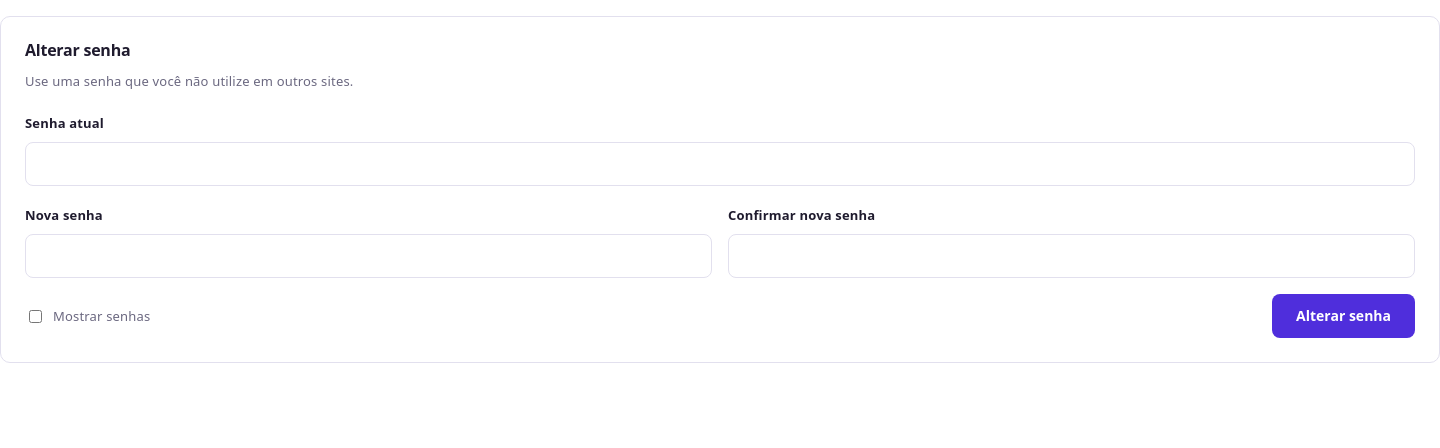
Test: FormularioSenha › envia, confirma e limpa os campos
Type "atual123" into the password field labelled "Senha atual" at (720, 164), box 25,142 -> 1415,186
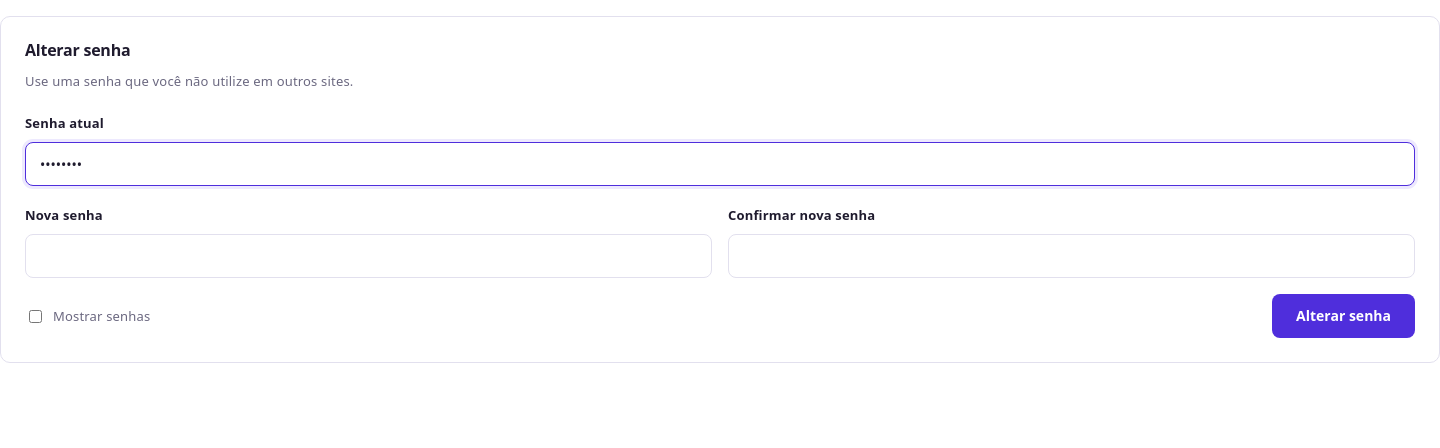
Type "nova1234" into the password field labelled "Nova senha" at (368, 256), box 25,234 -> 712,278
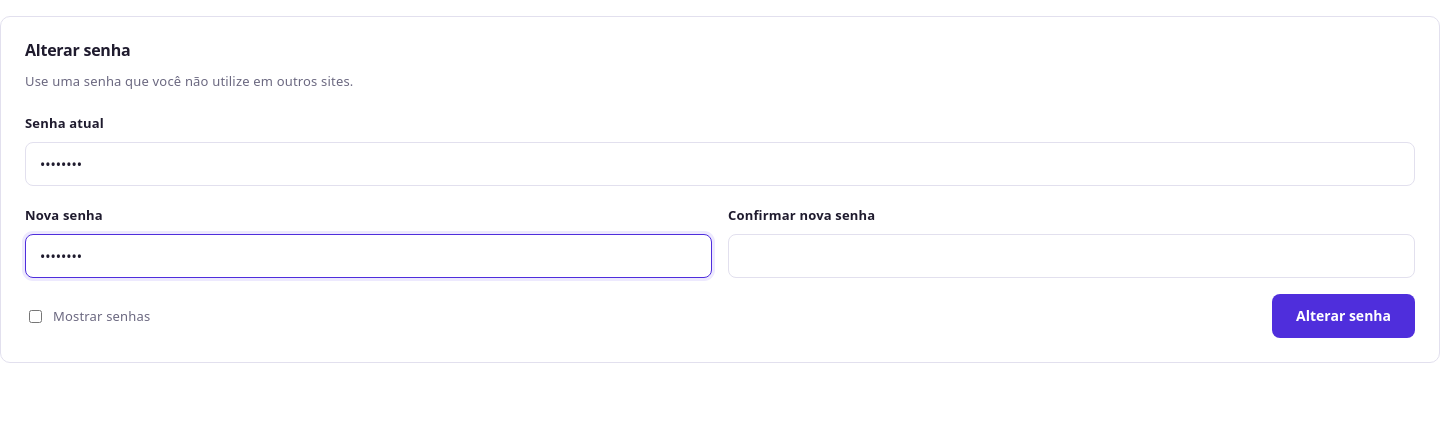
Type "nova1234" into the password field labelled "Confirmar nova senha" at (1072, 256), box 728,234 -> 1415,278
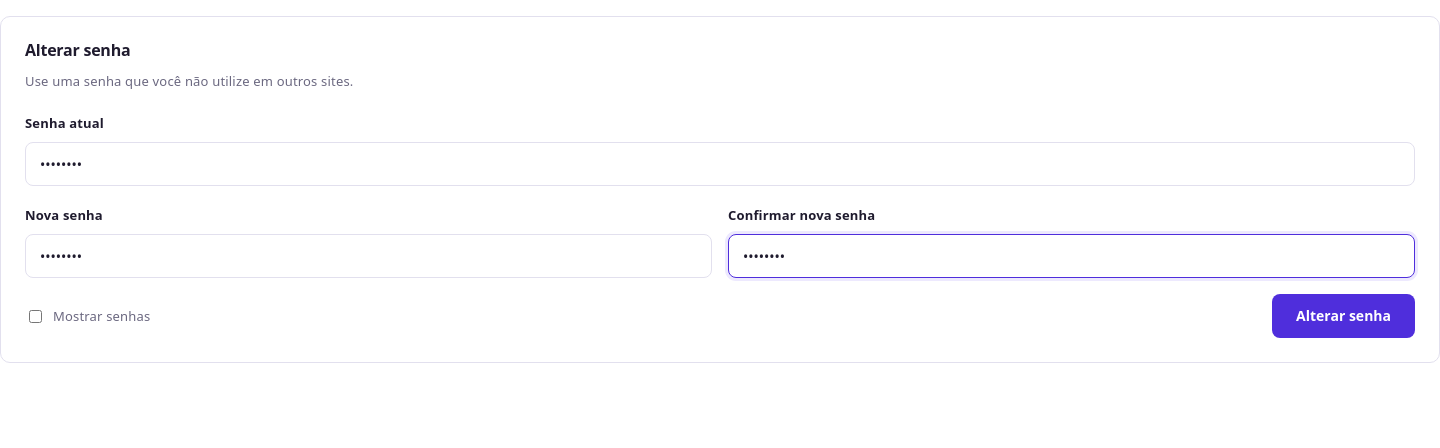
Click the button "Alterar senha" at (1344, 316), box 1272,294 -> 1415,338
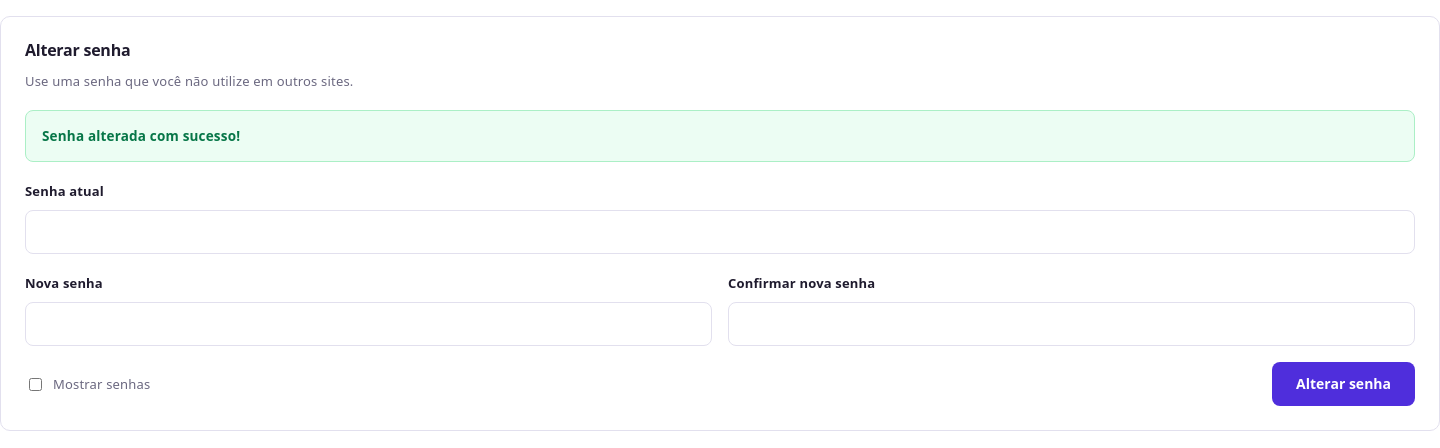
Check: the text "Senha alterada com sucesso!" is shown, box 25,110 -> 1415,162
Check: the password field labelled "Senha atual" is empty, box 25,210 -> 1415,254
